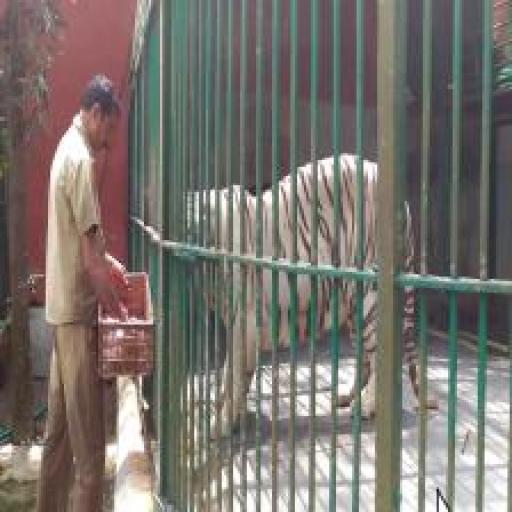Tiger: (174, 148, 444, 446)
